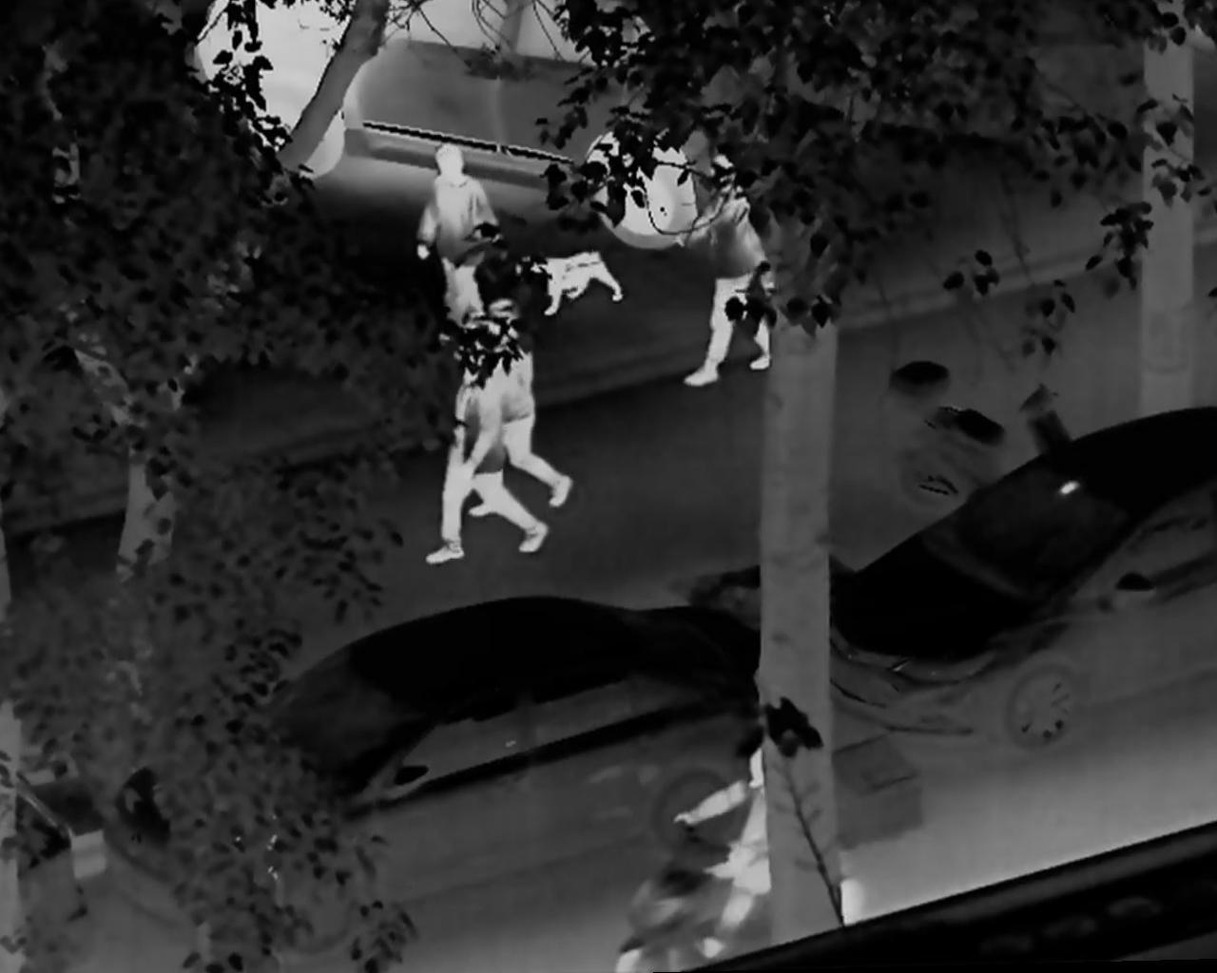person: (415, 321, 549, 574), (440, 301, 578, 526), (666, 735, 782, 961), (680, 155, 779, 395), (414, 143, 504, 344)
